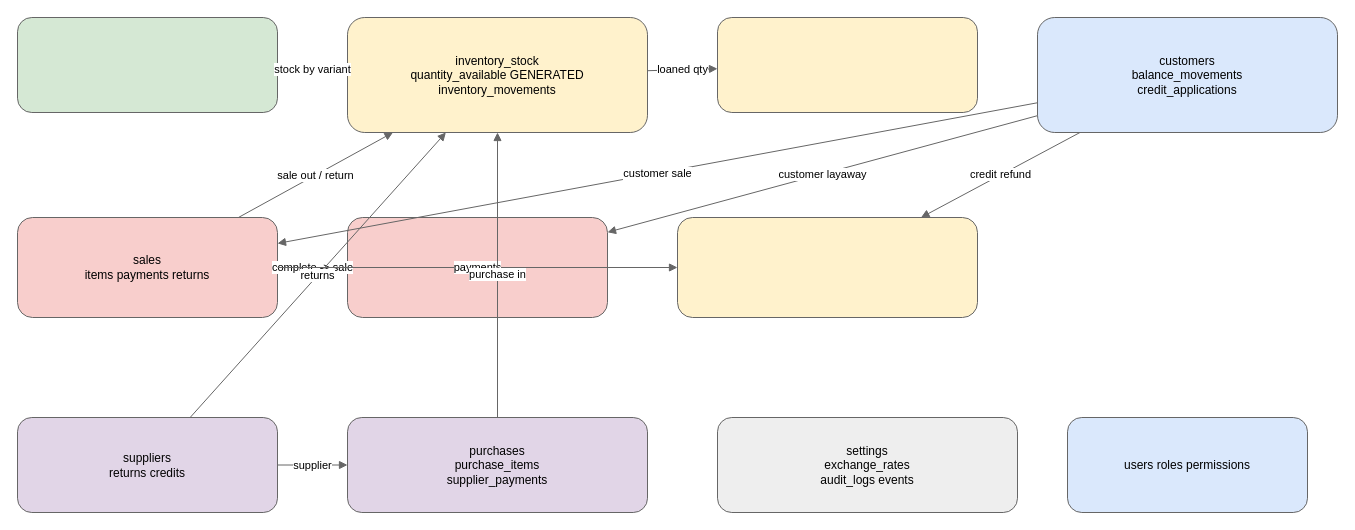
Image size: 1355x530. Some labels were removed from this diagram. The shapes that lost their labels are listed below. From the top down, each one's centre as x and y in pixels, then its label:
[147,64]: products / variants categories brands sizes colors
[847,64]: inventory_loans active returned converted
[477,267]: layaways items payments
[827,267]: cash_sessions cash_movements payment_methods
